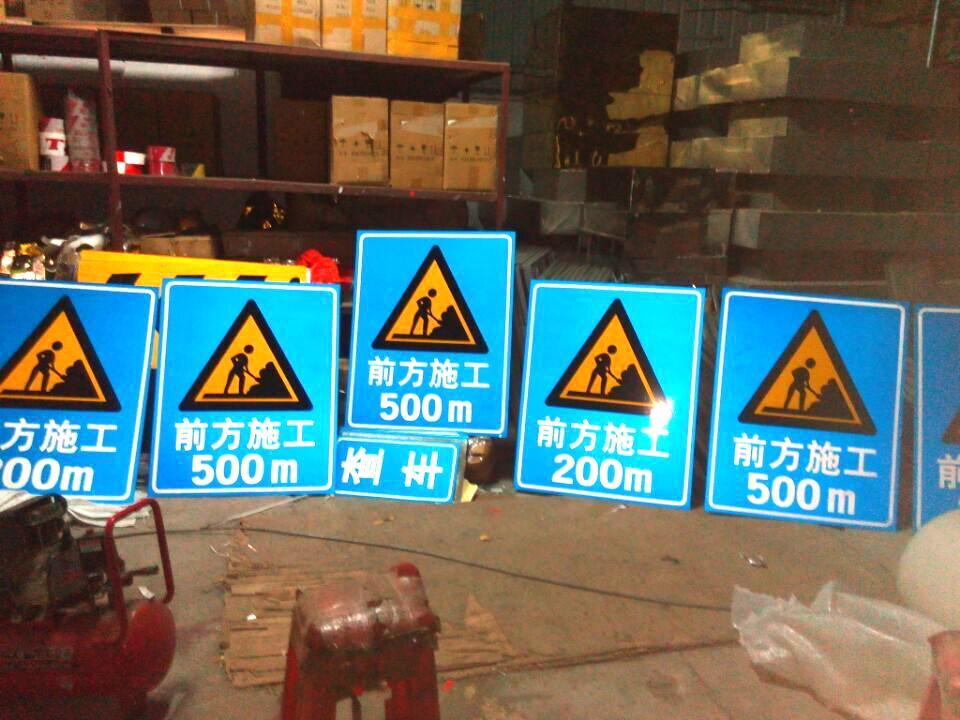sign: (729, 291, 890, 524), (528, 278, 693, 499), (160, 279, 328, 494), (357, 235, 507, 428), (6, 282, 131, 501)
